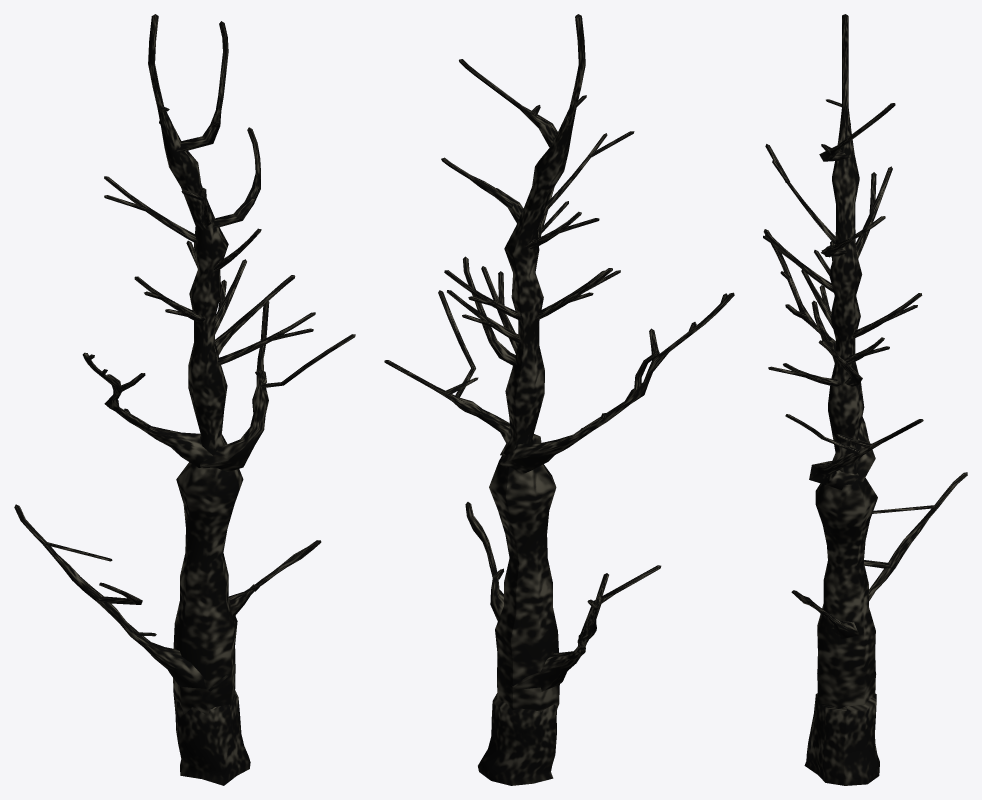
The model's file is VerTreeDead01.glb.
3 renders of one model, left to right at view 1: azimuth 30°, elevation 25°; view 2: azimuth 150°, elevation 25°; view 3: azimuth 270°, elevation 25°, orthographic. The views are drawn at different scales.
Visible parts, largest first — view 1: VerTreeDead01_limbs; view 2: VerTreeDead01_limbs; view 3: VerTreeDead01_limbs.
Part boxes in pixels (x1=…): VerTreeDead01_limbs: x1=14, y1=14, x2=355, y2=785; VerTreeDead01_limbs: x1=384, y1=14, x2=734, y2=785; VerTreeDead01_limbs: x1=763, y1=14, x2=967, y2=785.
Size of the model in its own units: 4.31 by 11.17 by 2.83.
1 material, 1 textured.
